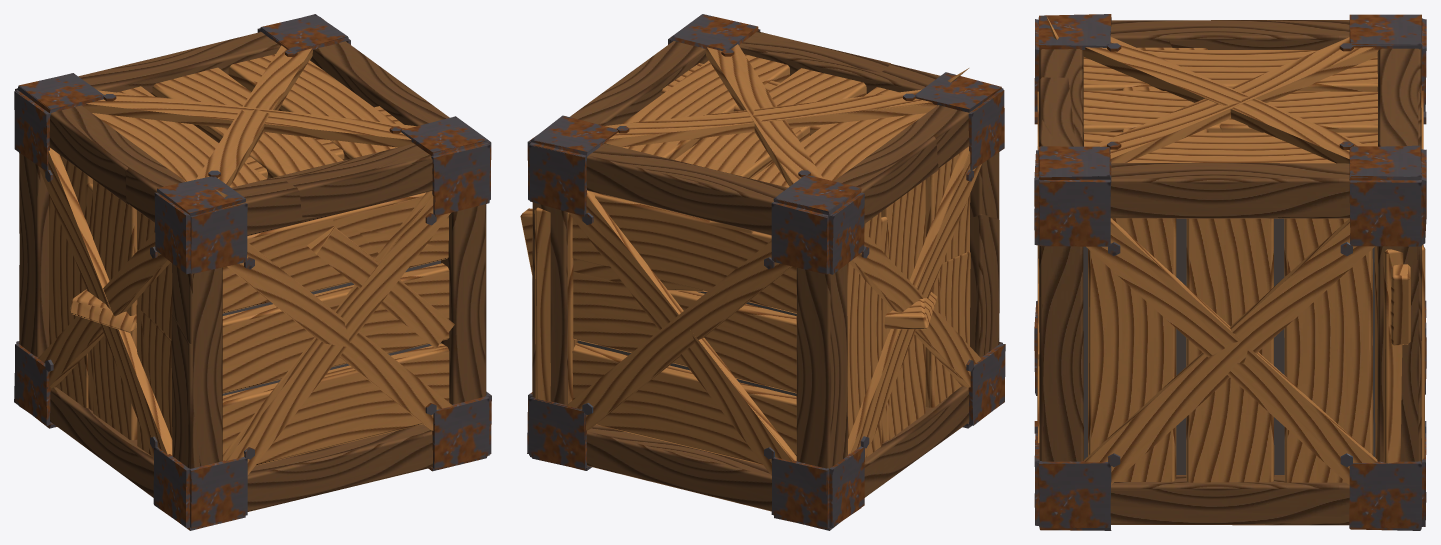
The model's file is Crate.glb.
3 renders of one model, left to right at view 1: azimuth 30°, elevation 25°; view 2: azimuth 150°, elevation 25°; view 3: azimuth 270°, elevation 25°, orthographic. The views are drawn at different scales.
Parts seen in each view (by area): view 1: Intact, Damaged, Piece_0, Piece_3, Piece_4, Piece_2; view 2: Intact, Damaged, Piece_1, Piece_0, Piece_5, Piece_3, Piece_4; view 3: Damaged, Intact, Piece_1, Piece_5, Piece_0.
Part boxes in pixels (x1,y1,x2,y2): Intact: [15, 14, 491, 530]; Damaged: [14, 14, 491, 530]; Piece_0: [231, 144, 415, 235]; Piece_3: [70, 289, 136, 332]; Piece_4: [86, 183, 93, 411]; Piece_2: [245, 106, 403, 178]; Intact: [528, 14, 1004, 530]; Damaged: [527, 14, 1005, 529]; Piece_1: [534, 207, 576, 403]; Piece_0: [740, 43, 933, 90]; Piece_5: [520, 208, 753, 291]; Piece_3: [884, 292, 937, 329]; Piece_4: [881, 217, 887, 443]; Damaged: [1034, 14, 1426, 530]; Intact: [1034, 14, 1426, 529]; Piece_1: [1374, 245, 1425, 463]; Piece_5: [1390, 264, 1410, 345]; Piece_0: [1055, 49, 1083, 146].
Size of the model in its own units: 0.7944 by 0.7497 by 0.7199.
Materials: 4 (3 with a texture image).
